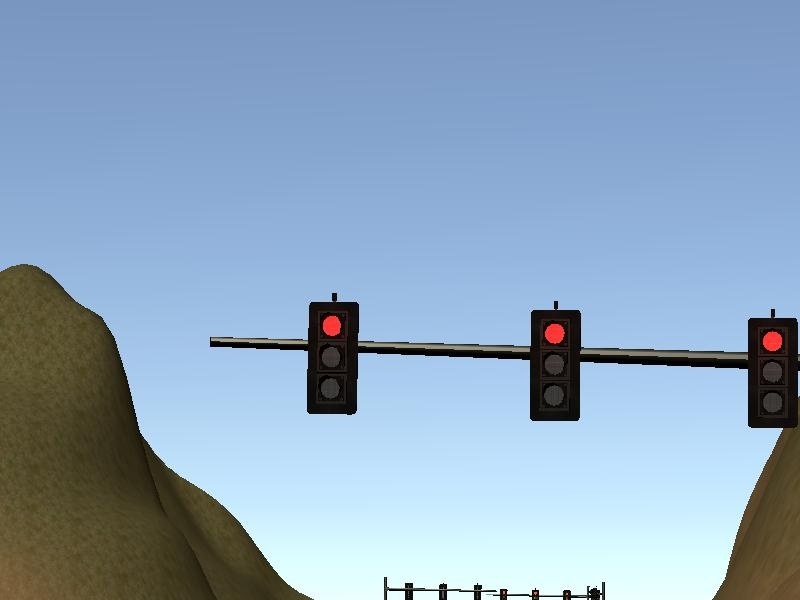RED: (746, 317, 800, 429), (307, 303, 360, 415), (529, 309, 582, 421)
